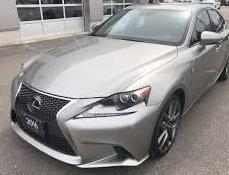Cars: (13, 5, 229, 169)
